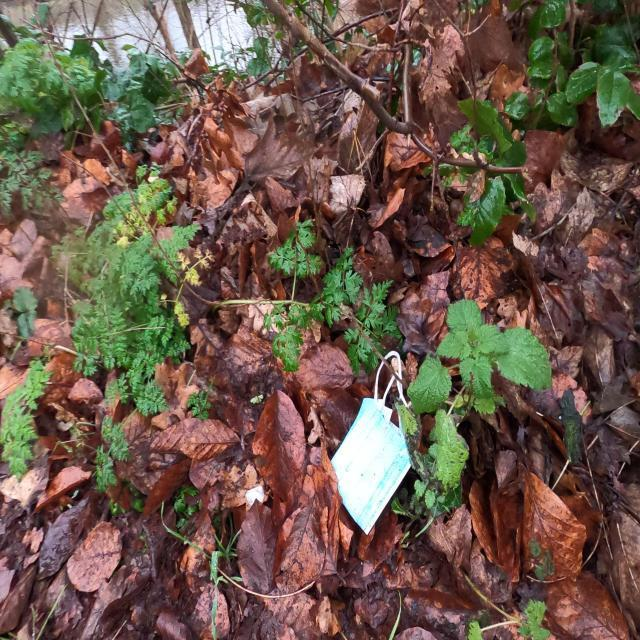Mask: (330, 350, 418, 536)
